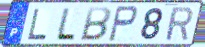8: (140, 7, 164, 41)
B: (78, 7, 112, 42)
L: (54, 7, 77, 41), (27, 8, 49, 41)
P: (107, 5, 139, 43)
R: (164, 6, 194, 42)
